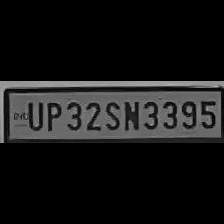2: (82, 98, 102, 132)
3: (62, 98, 82, 132), (158, 97, 178, 129), (141, 97, 159, 130)
5: (197, 96, 217, 130)
9: (178, 97, 196, 129)
N: (120, 98, 140, 132)
P: (42, 98, 62, 132)
S: (102, 98, 120, 132)
U: (22, 98, 42, 130)
